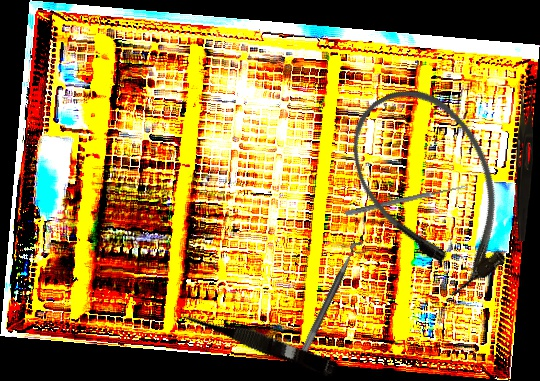Cannula: (328, 67, 538, 310)
Dressing Forceps: (516, 86, 533, 241)
Fixation Ring: (298, 237, 372, 362)
Micro Scissor: (179, 302, 340, 380)
Surgical Spoon: (344, 183, 469, 217)
